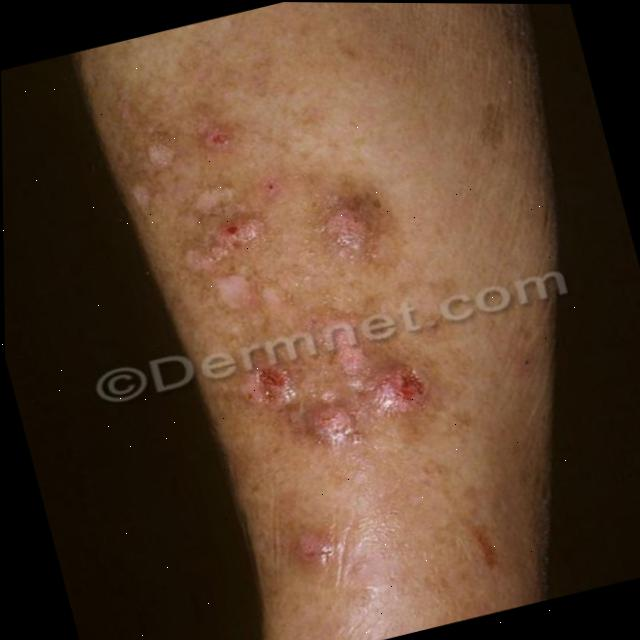Eczema: (120, 94, 500, 592)
